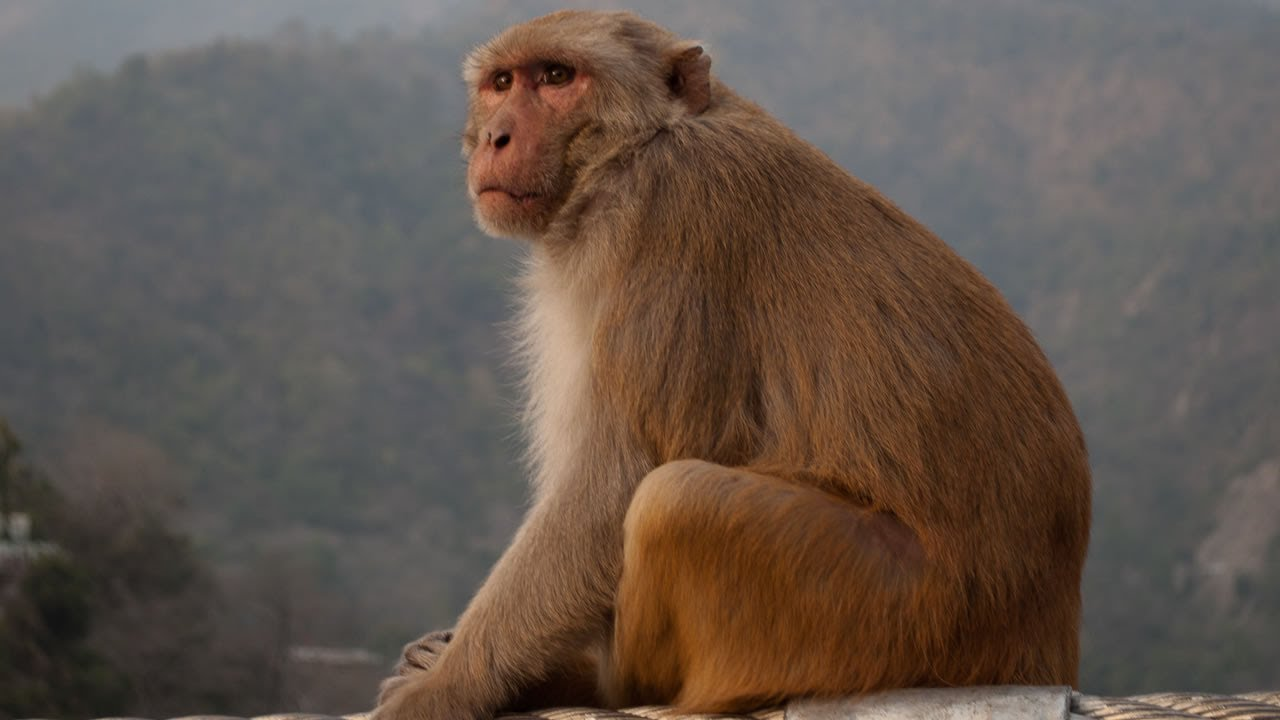monkey: (378, 8, 1086, 712)
